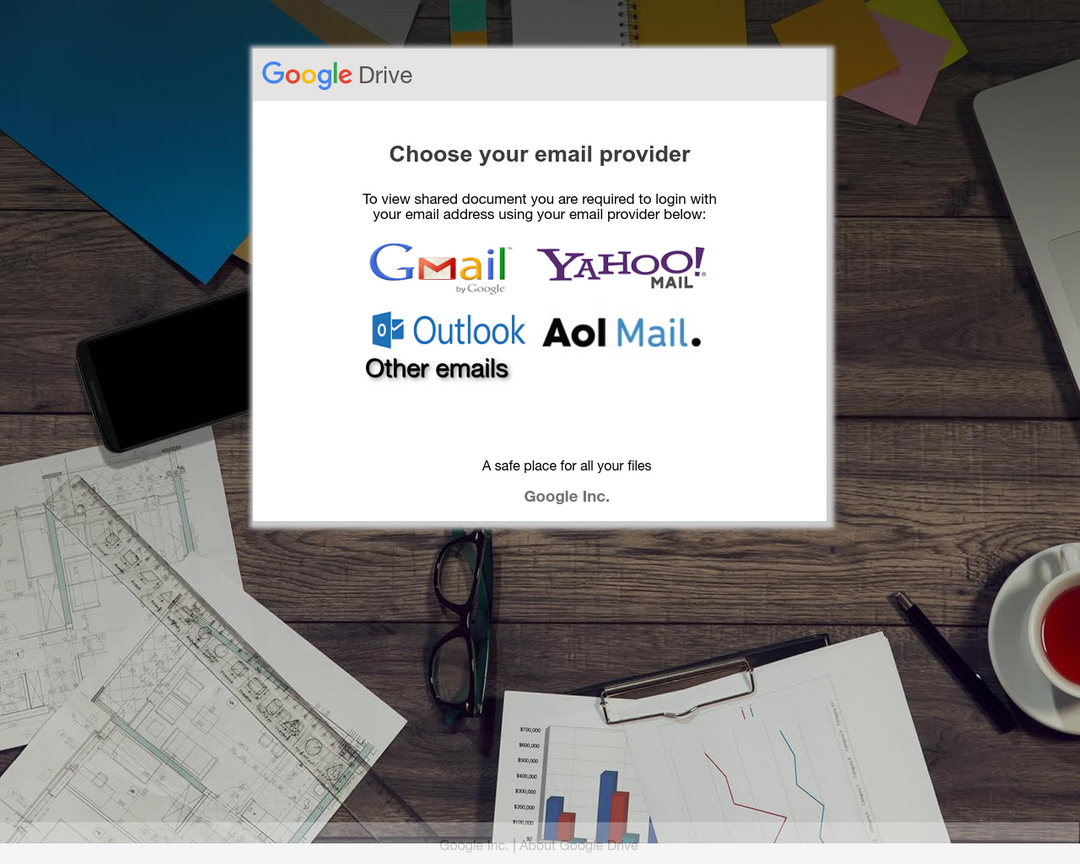Google: (505, 253, 572, 284)
